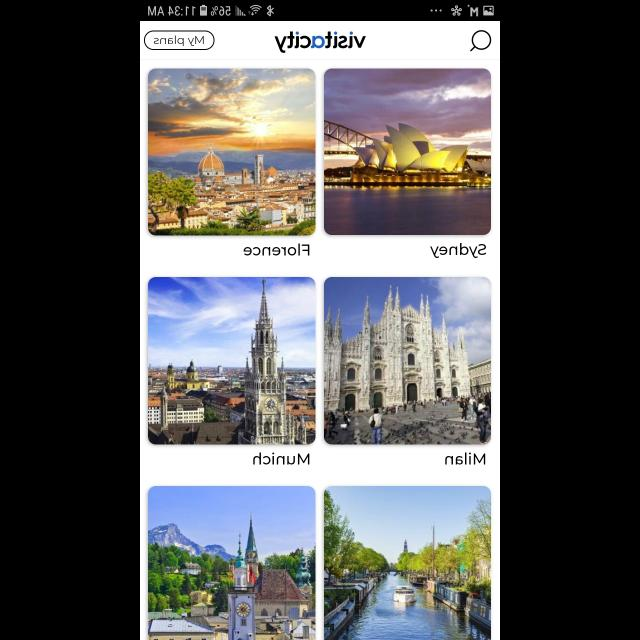icon: (469, 30, 491, 52)
image: (148, 277, 316, 445), (324, 277, 491, 445), (148, 68, 316, 235), (324, 68, 491, 235), (148, 486, 316, 640), (324, 486, 491, 640), (274, 31, 366, 53)
text: (430, 243, 486, 259), (243, 244, 309, 256), (252, 452, 310, 464), (444, 452, 486, 464)
textbutton: (143, 31, 214, 51)
uppertaskbar: (140, 1, 500, 22)
